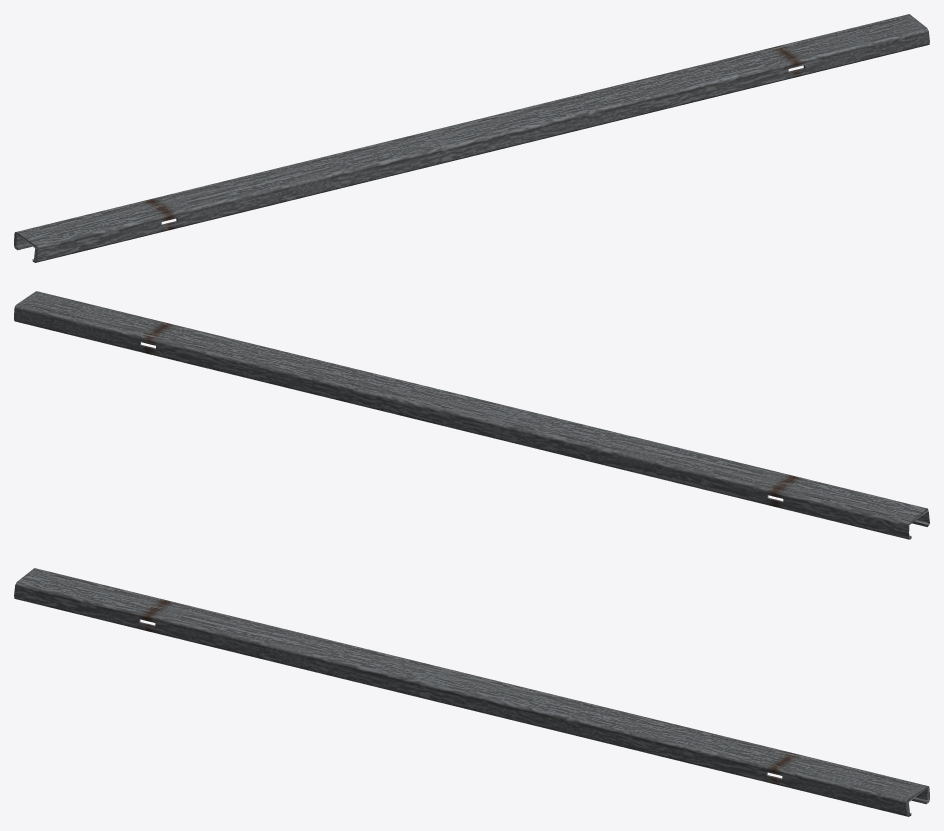
Rendered from middle.glb.
The picture shows the model from 3 angles, top to bottom: view 1: azimuth 30°, elevation 25°; view 2: azimuth 150°, elevation 25°; view 3: azimuth 330°, elevation 25°; orthographic projection.
Visible parts, largest first — view 1: seat_rail_middle; view 2: seat_rail_middle; view 3: seat_rail_middle.
Part boxes in pixels (<box>): seat_rail_middle: <box>14,14,929,262</box>; seat_rail_middle: <box>14,291,929,539</box>; seat_rail_middle: <box>14,568,929,816</box>.
Bounding box in the file's own units: 1 × 0.018 × 0.042.
1 material, 1 textured.
